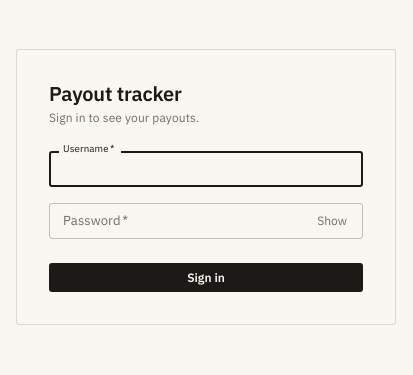
Test case: signing in › gives one message for a failure, and no hint which half was wrong
Expected: the button "Sign in" is shown, x1=49 y1=263 x2=363 y2=292
Type "admin" into the field labelled "Username *" at (206, 169), box x1=49 y1=151 x2=363 y2=187
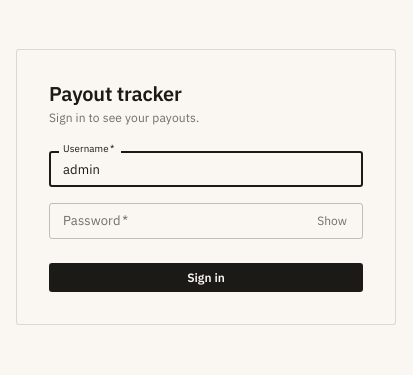
Type "not-the-password" into the password field labelled "Password *" at (177, 221), box x1=49 y1=203 x2=304 y2=239
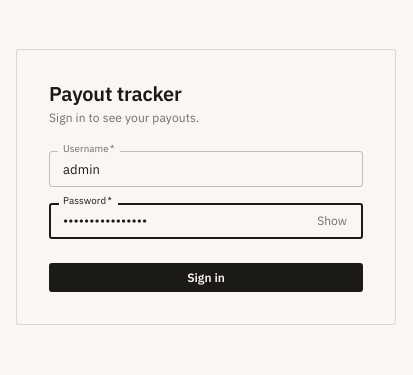
Click the button "Sign in" at (206, 277), box x1=49 y1=263 x2=363 y2=292
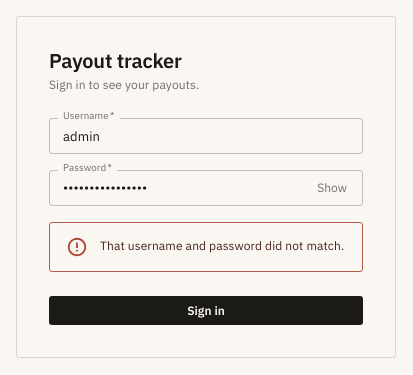
Now the text "That username and password did not match." is shown, box x1=100 y1=237 x2=344 y2=255
